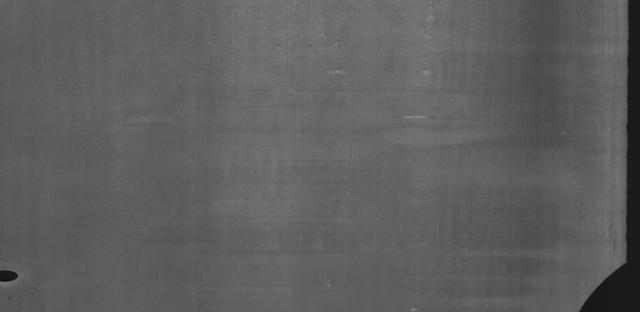crescent_gap: (565, 251, 633, 312)
punching_hole: (1, 270, 23, 286)
